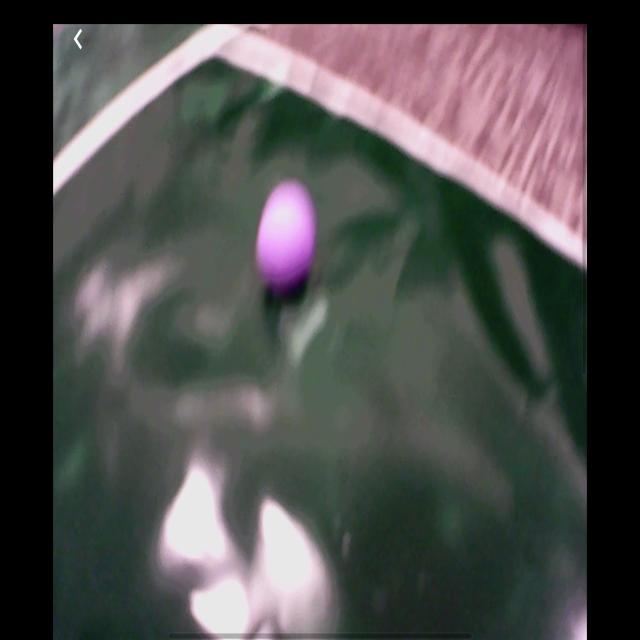ball: (255, 178, 318, 298)
